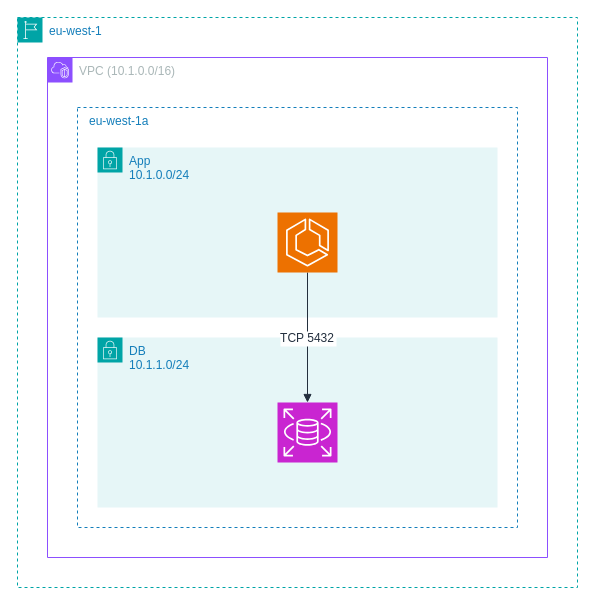
The diagram is 595 pixels wide and 605 high, and some of its shapes have lost their labels. The centre of each missing label's shape, as x and y in pixels:
"App" belongs at (x=307, y=242).
"DB" belongs at (x=307, y=432).
